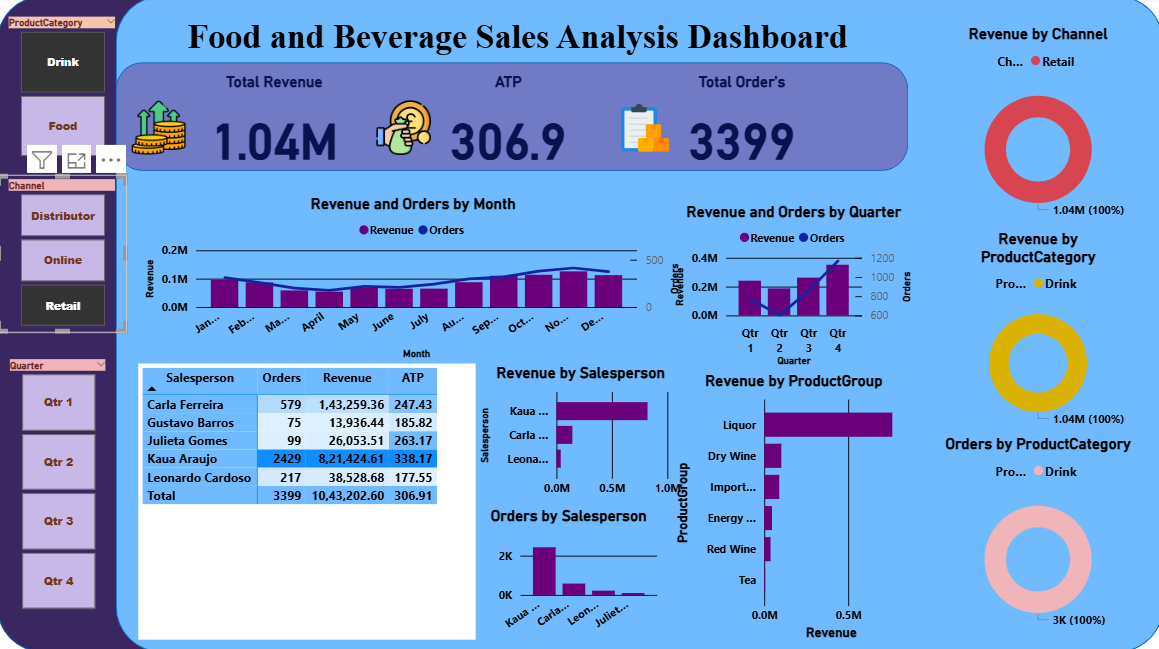

What the dashboard file says about the page in this screenshot:
{"tool":"powerbi","page":{"name":"Page 2","canvas":[1280,720],"ordinal":1},"visuals":[{"type":"shape","box":[0,0,1280.3,720.4],"z":0},{"type":"shape","box":[130.4,0,1149.9,720.4],"z":1000},{"type":"shape","box":[130.4,72.7,870,119.4],"z":2000},{"type":"card","title":"Total Revenue","fields":{"Values":["Product.Revenue"]},"box":[155.1,83.7,299.1,119.4],"z":3000},{"type":"card","title":"ATP","fields":{"Values":["Product.ATP"]},"box":[411.7,83.7,299.1,119.4],"z":4000},{"type":"card","title":"Total Order''s","fields":{"Values":["Product.Orders"]},"box":[668.3,83.7,299.1,119.4],"z":5000},{"type":"donutChart","fields":{"Y":["Product.Revenue"],"Category":["Sheet1.Channel"]},"box":[1033.3,31.6,219.6,225],"z":6000},{"type":"donutChart","fields":{"Y":["Product.Revenue"],"Category":["Product.ProductCategory"]},"box":[1033.3,256.6,219.6,225],"z":7000},{"type":"donutChart","fields":{"Category":["Product.ProductCategory"],"Y":["Product.Orders"]},"box":[1033.3,481.6,219.6,225],"z":8000},{"type":"lineStackedColumnComboChart","fields":{"Y":["Product.Revenue"],"Y2":["Product.Orders"],"Category":["Sheet1.OrderDate.Variation.Date Hierarchy.Quarter"]},"box":[739.6,226.4,270.3,185.2],"z":9000},{"type":"barChart","fields":{"Y":["Product.Revenue"],"Category":["Product.ProductGroup"]},"box":[739.6,411.7,270.3,300.5],"z":10000},{"type":"lineStackedColumnComboChart","fields":{"Y":["Product.Revenue"],"Y2":["Product.Orders"],"Category":["Sheet1.OrderDate.Variation.Date Hierarchy.Month"]},"box":[157.8,218.2,598.3,185.2],"z":11000},{"type":"barChart","fields":{"Y":["Product.Revenue"],"Category":["Sheet1.Salesperson"]},"box":[525.6,403.4,230.5,155.1],"z":12000},{"type":"clusteredColumnChart","fields":{"Y":["Product.Orders"],"Category":["Sheet1.Salesperson"]},"box":[525.6,559.9,204.5,146.8],"z":13000},{"type":"pivotTable","fields":{"Rows":["Sheet1.Salesperson"],"Values":["Product.Orders","Product.Revenue","Product.ATP"]},"box":[155.1,403.4,370.5,303.3],"z":14000},{"type":"slicer","fields":{"Values":["Product.ProductCategory"]},"box":[0,17.8,142.7,164.7],"z":15000},{"type":"slicer","fields":{"Values":["Sheet1.Channel"]},"box":[0,196.2,142.7,172.9],"z":16000},{"type":"slicer","fields":{"Values":["Sheet1.OrderDate.Variation.Date Hierarchy.Quarter"]},"box":[1.4,393.8,130.4,285.4],"z":17000},{"type":"textbox","box":[142.7,17.8,857.6,54.9],"z":18000},{"type":"image","box":[142.7,109.8,70,70],"z":19000},{"type":"image","box":[676.5,109.8,70,70],"z":20000},{"type":"image","box":[411.7,109.8,70,70],"z":21000}]}

Visuals, with their boxes in screenshot pixels (x1, y1, x2, y2), scaled from the page's 1280x720 canvas onto the 1159x649 screenshot:
shape: bbox(0, 0, 1158, 648)
shape: bbox(118, 0, 1158, 648)
shape: bbox(118, 66, 906, 173)
"Total Revenue" card: bbox(140, 75, 411, 183)
"ATP" card: bbox(373, 75, 644, 183)
"Total Order''s" card: bbox(605, 75, 876, 183)
donutChart - Product.Revenue x Sheet1.Channel: bbox(936, 28, 1134, 231)
donutChart - Product.Revenue x Product.ProductCategory: bbox(936, 231, 1134, 434)
donutChart - Product.ProductCategory x Product.Orders: bbox(936, 434, 1134, 637)
lineStackedColumnComboChart - Product.Revenue x Product.Orders: bbox(670, 204, 914, 371)
barChart - Product.Revenue x Product.ProductGroup: bbox(670, 371, 914, 642)
lineStackedColumnComboChart - Product.Revenue x Product.Orders: bbox(143, 197, 685, 364)
barChart - Product.Revenue x Sheet1.Salesperson: bbox(476, 364, 685, 503)
clusteredColumnChart - Product.Orders x Sheet1.Salesperson: bbox(476, 505, 661, 637)
pivotTable - Sheet1.Salesperson x Product.Orders: bbox(140, 364, 476, 637)
slicer - Product.ProductCategory: bbox(0, 16, 129, 165)
slicer - Sheet1.Channel: bbox(0, 177, 129, 333)
slicer - Sheet1.OrderDate.Variation.Date Hierarchy.Quarter: bbox(1, 355, 119, 612)
textbox: bbox(129, 16, 906, 66)
image: bbox(129, 99, 193, 162)
image: bbox(613, 99, 676, 162)
image: bbox(373, 99, 436, 162)
